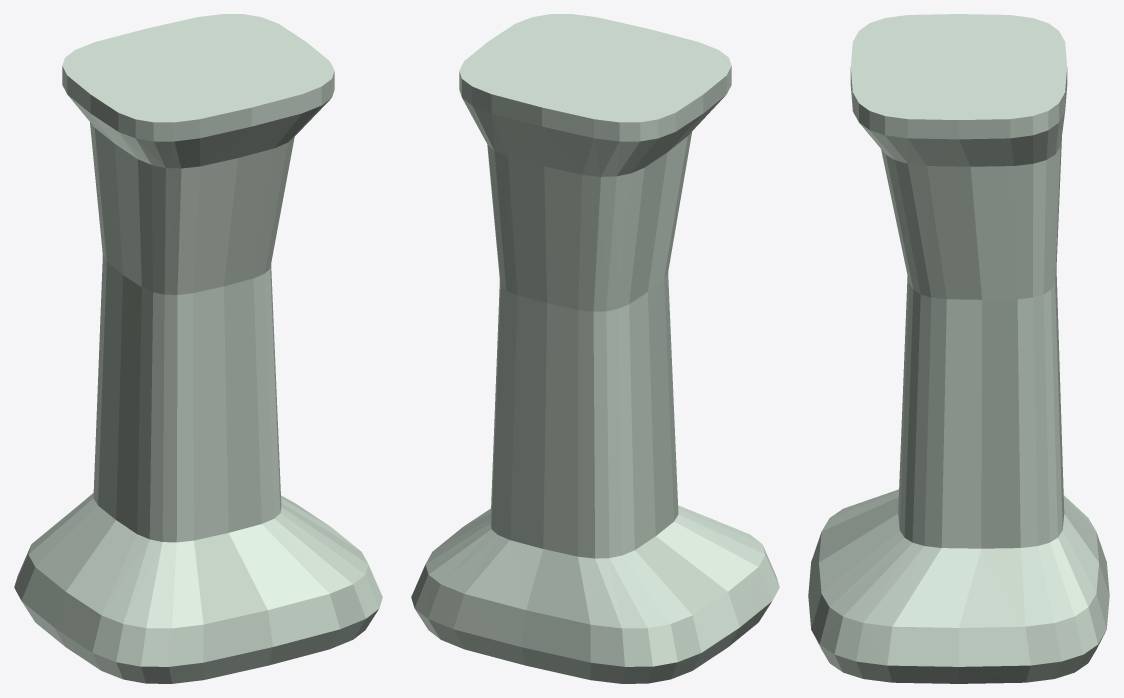
File: EB_SinkPedestal.fbx
3 views of the same model, side by side, from view 1: azimuth 30°, elevation 25°; view 2: azimuth 150°, elevation 25°; view 3: azimuth 270°, elevation 25° (orthographic).
Parts seen in each view (by area): view 1: EB_SinkPedestal; view 2: EB_SinkPedestal; view 3: EB_SinkPedestal.
Boxes of the visible parts, bbox=[...] form: EB_SinkPedestal: bbox=[14, 14, 382, 683]; EB_SinkPedestal: bbox=[411, 14, 779, 683]; EB_SinkPedestal: bbox=[808, 14, 1109, 683].
Size of the model in its own units: 0.348 by 0.63 by 0.312.
1 material, 1 textured.
